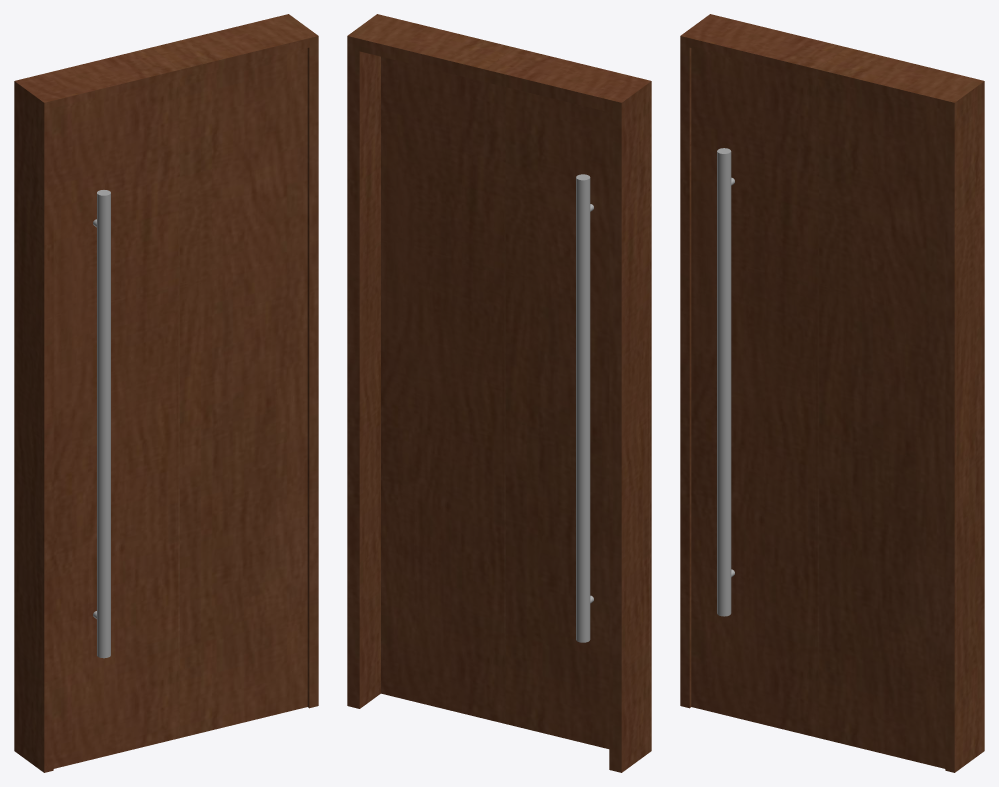
File: door.glb
3 renders of one model, left to right at view 1: azimuth 30°, elevation 25°; view 2: azimuth 150°, elevation 25°; view 3: azimuth 330°, elevation 25°, orthographic.
Visible parts, largest first — view 1: root; view 2: root; view 3: root.
Part boxes in pixels (x1,y1,x2,y2): root: [14, 14, 318, 772]; root: [347, 14, 651, 772]; root: [680, 14, 984, 772].
Bounding box in the file's own units: 0.9 × 2.1 × 0.235.
2 materials, 1 textured.
